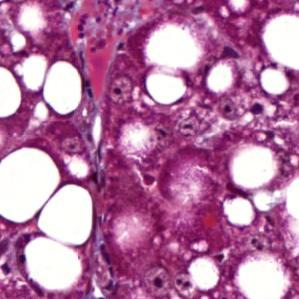steatosis: (40, 183, 99, 245), (40, 60, 86, 115), (225, 146, 280, 188), (141, 68, 186, 106)
